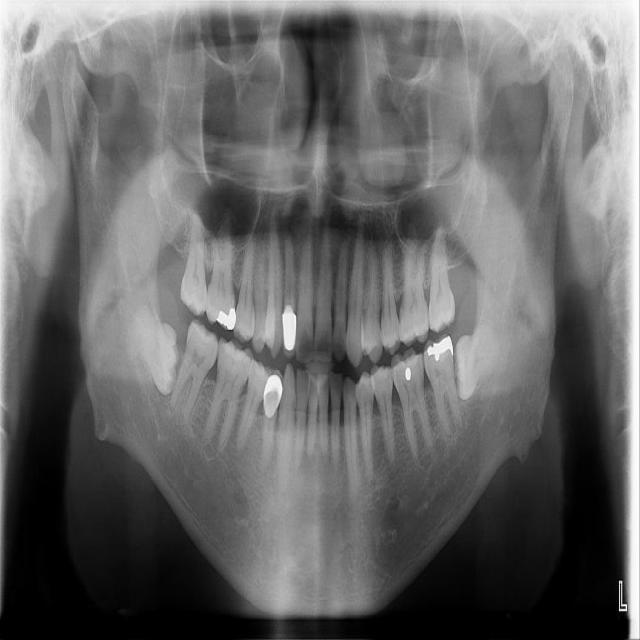Filling: (263, 368, 285, 418), (281, 305, 296, 357), (427, 334, 452, 361), (398, 359, 419, 387), (216, 308, 237, 330)
impacted tooth: (125, 308, 179, 391), (455, 323, 501, 396)
